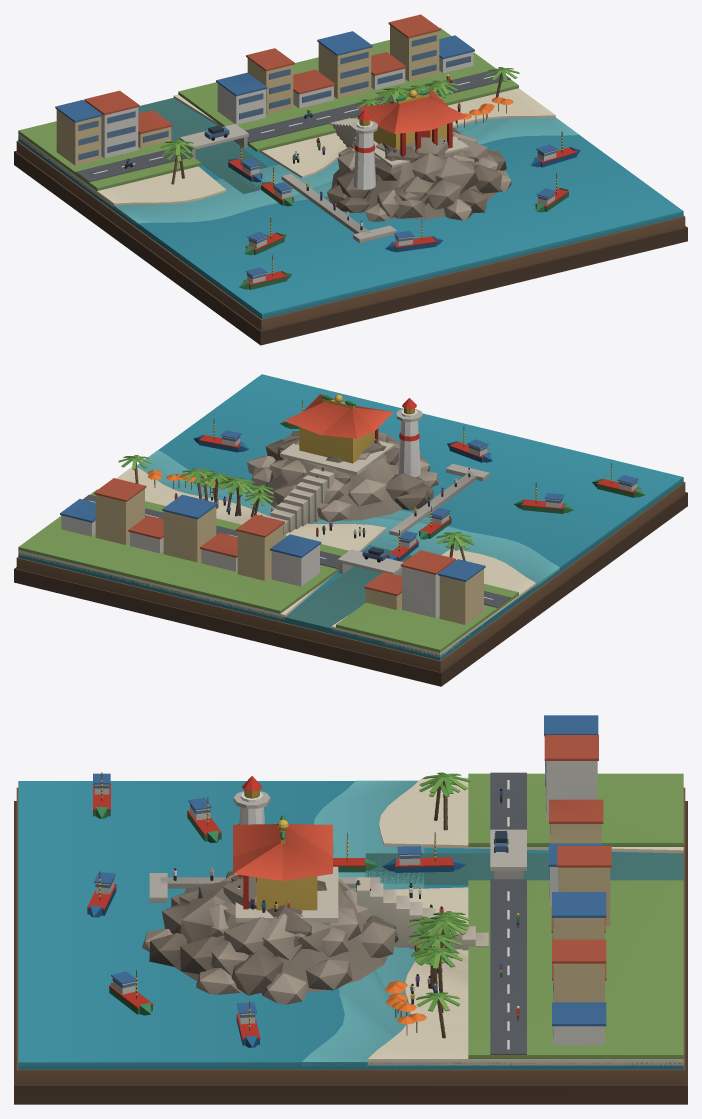
Rendered from dao-phu-quoc.glb.
3 renders of one model, top to bottom at view 1: azimuth 30°, elevation 25°; view 2: azimuth 150°, elevation 25°; view 3: azimuth 270°, elevation 25°, orthographic. The views are drawn at different scales.
Parts seen in each view (by area): view 1: DC_DC_base; view 2: DC_DC_base; view 3: DC_DC_base.
Boxes of the visible parts, x1,y1,x2,y2 form: DC_DC_base: (14,14,687,345); DC_DC_base: (14,374,687,686); DC_DC_base: (14,715,687,1104).
Bounding box in the file's own units: 92 × 25.76 × 92.
Materials: 1 (1 with a texture image).
